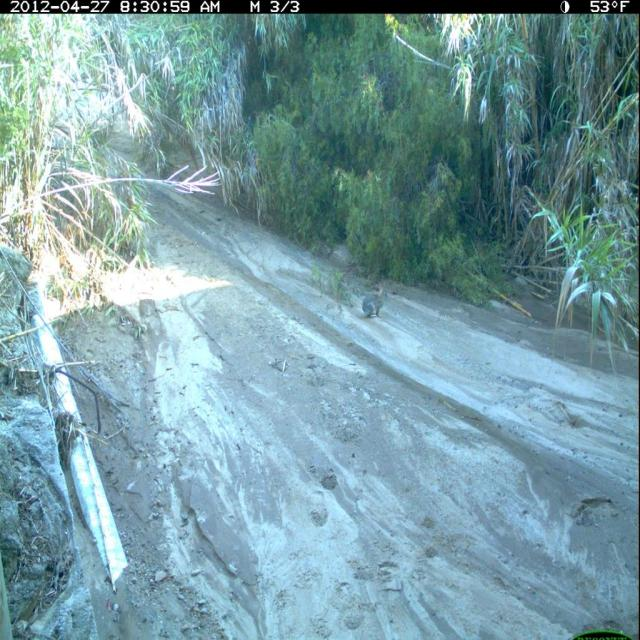rabbit: (360, 279, 394, 324)
